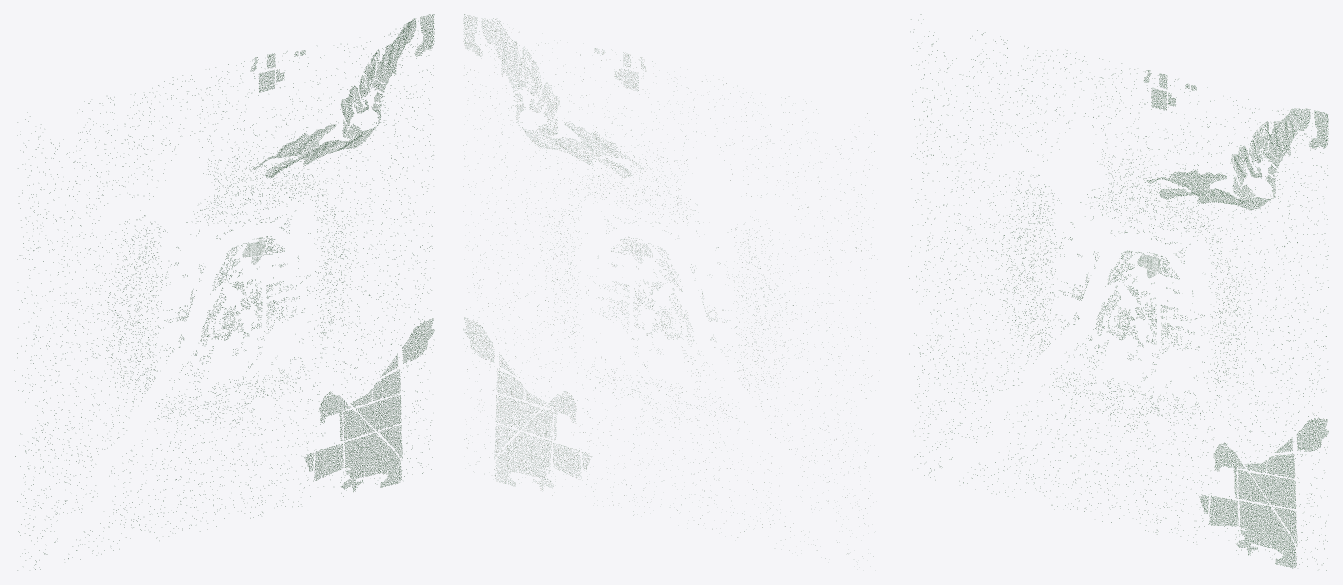
File: trees.glb
3 renders of one model, left to right at view 1: azimuth 30°, elevation 25°; view 2: azimuth 150°, elevation 25°; view 3: azimuth 330°, elevation 25°, orthographic.
Visible parts, largest first — view 1: 0-scatter-presentation-orchard.glb; view 2: 0-scatter-presentation-orchard.glb; view 3: 0-scatter-presentation-orchard.glb.
Boxes of the visible parts, x1,y1,x2,y2 form: 0-scatter-presentation-orchard.glb: (14, 14, 434, 570); 0-scatter-presentation-orchard.glb: (463, 14, 878, 558); 0-scatter-presentation-orchard.glb: (908, 14, 1328, 570).
Bounding box in the file's own units: 5277 × 5559 × 117.
